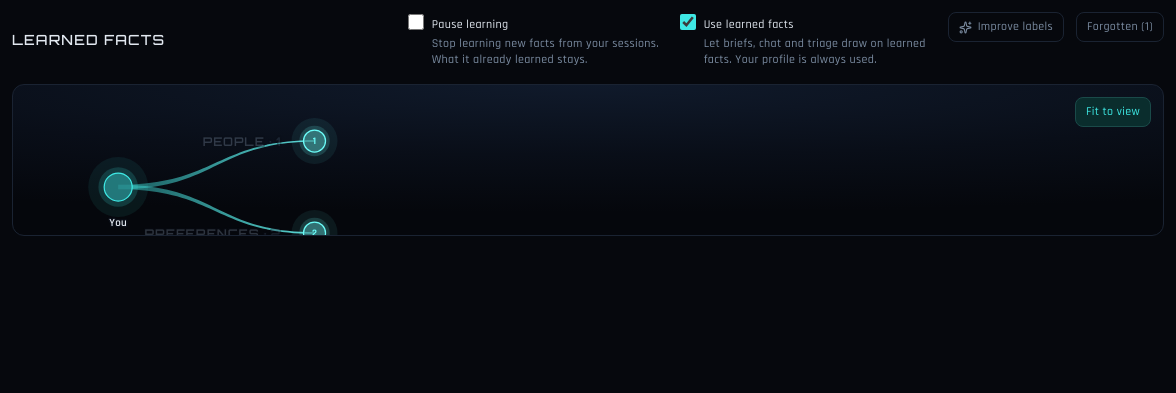
TwinMemoryGraph — Forgotten (N) › points aria-controls at the list only while it is mounted
Click the button "Forgotten (1)".
click(1120, 27)  # box [1076,12,1164,42]
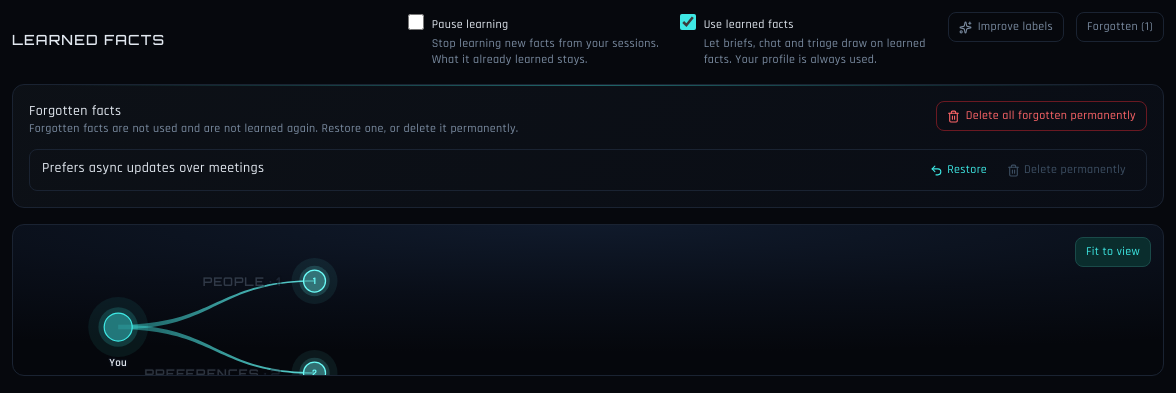
Expected: the element with id "twin-forgotten-list" is shown, [12,84,1164,208]
Click the button "Forgotten (1)".
click(1120, 27)  # box [1076,12,1164,42]
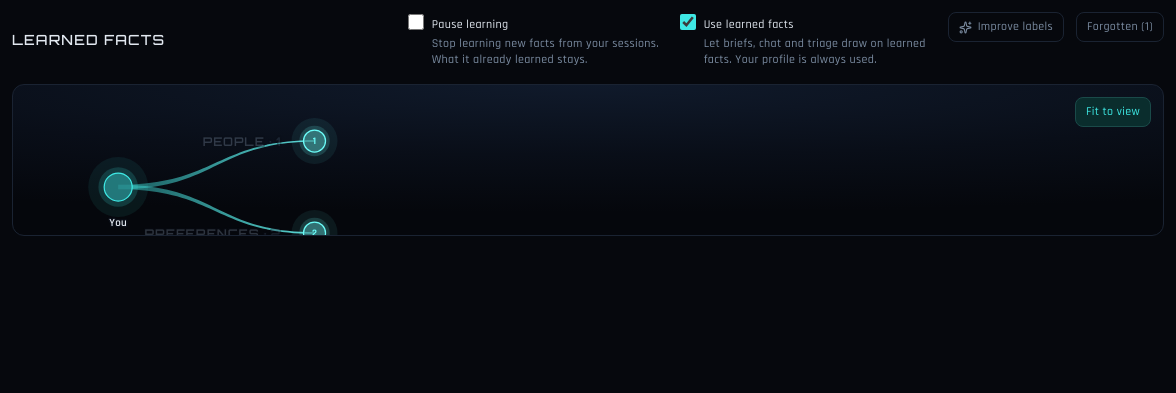
Expected: the element with id "twin-forgotten-list" is gone
